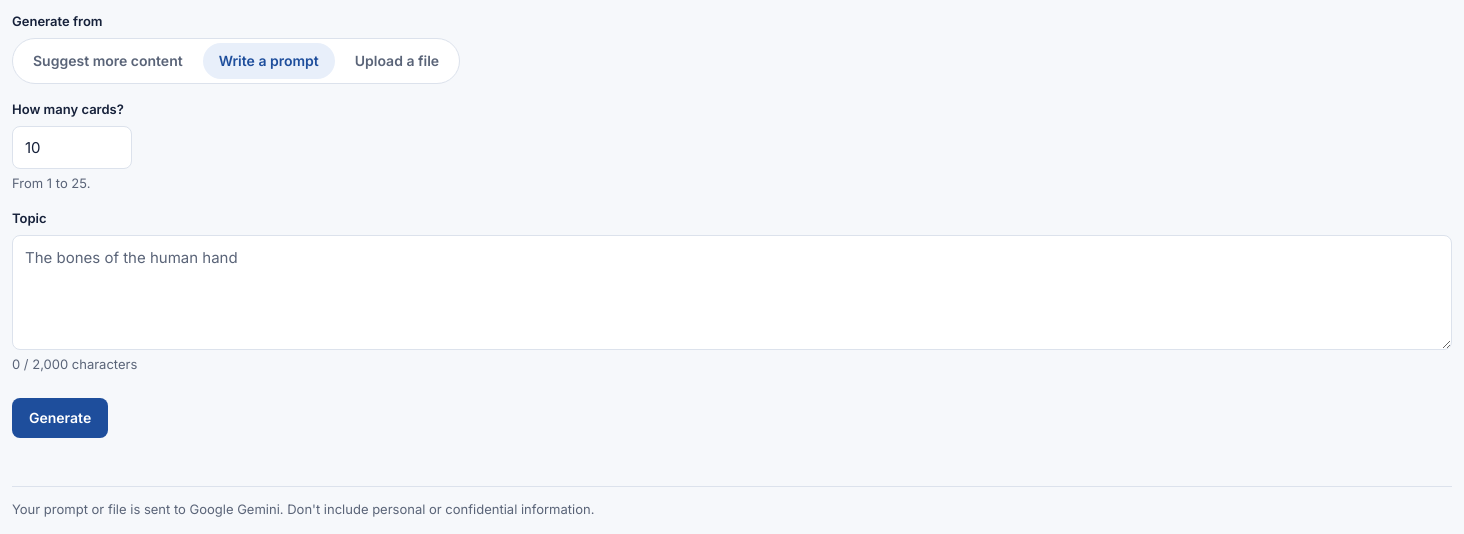
Scenario: a failed check focuses the first field with a problem, whose message describes it
Replace the text in the number field labelled "How many cards?" with "0" at (72,148), box [12, 126, 132, 169]
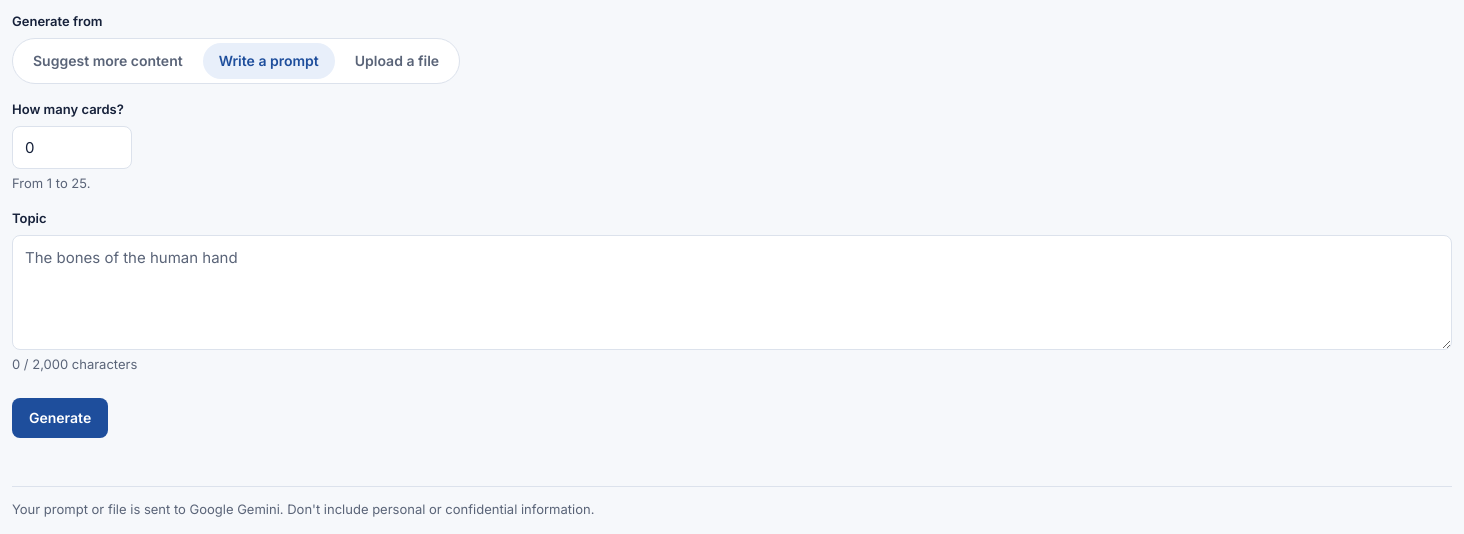
Click the button "Generate".
click(60, 418)  # box [12, 398, 108, 438]
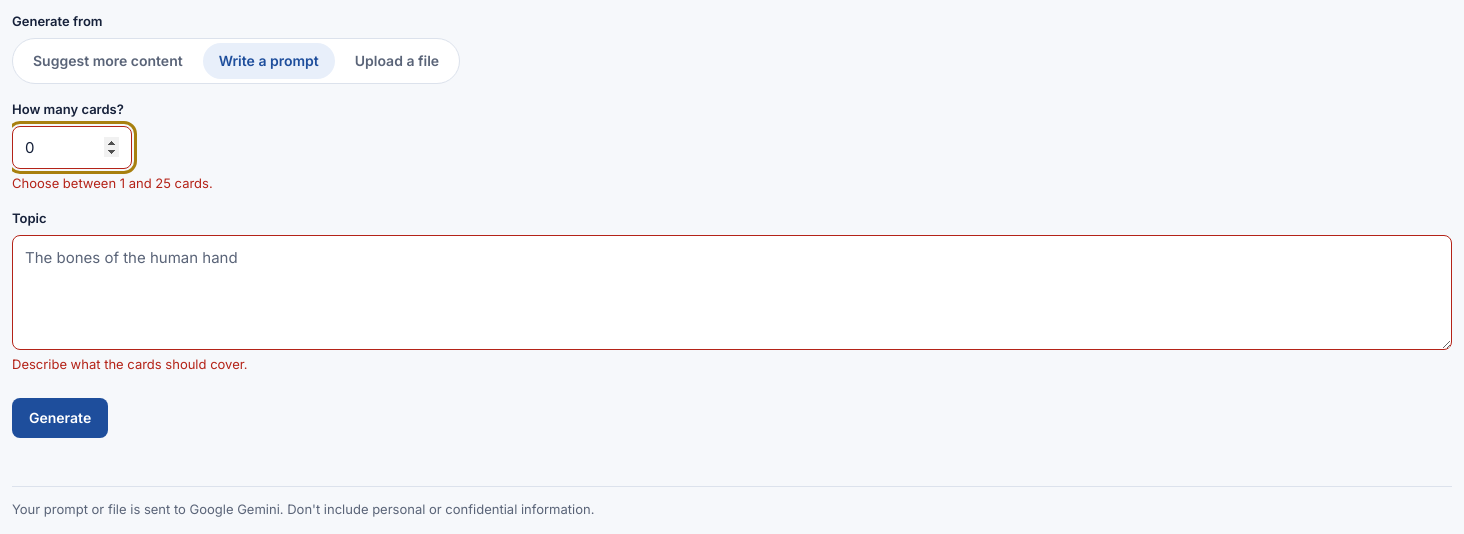
Expected: the text "Choose between 1 and 25 cards." is shown, [12, 175, 213, 191]
